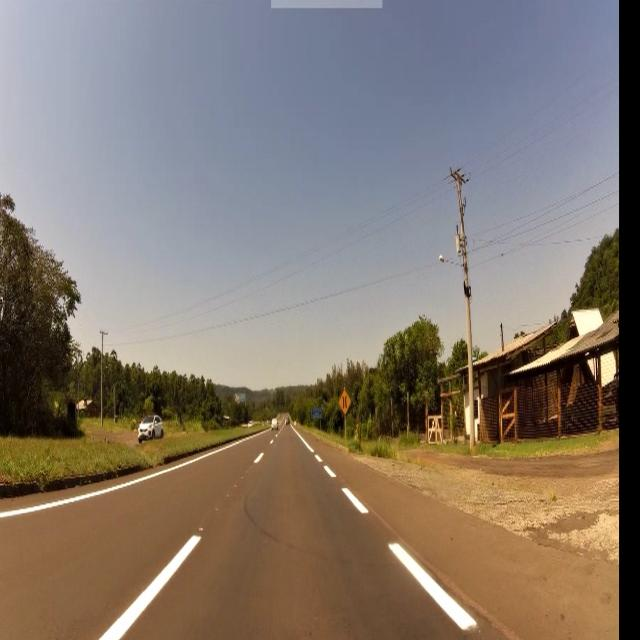A-22: (339, 388, 350, 415)
